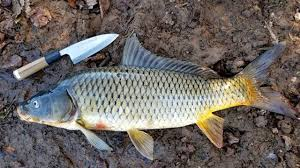carp: (17, 32, 300, 162)
